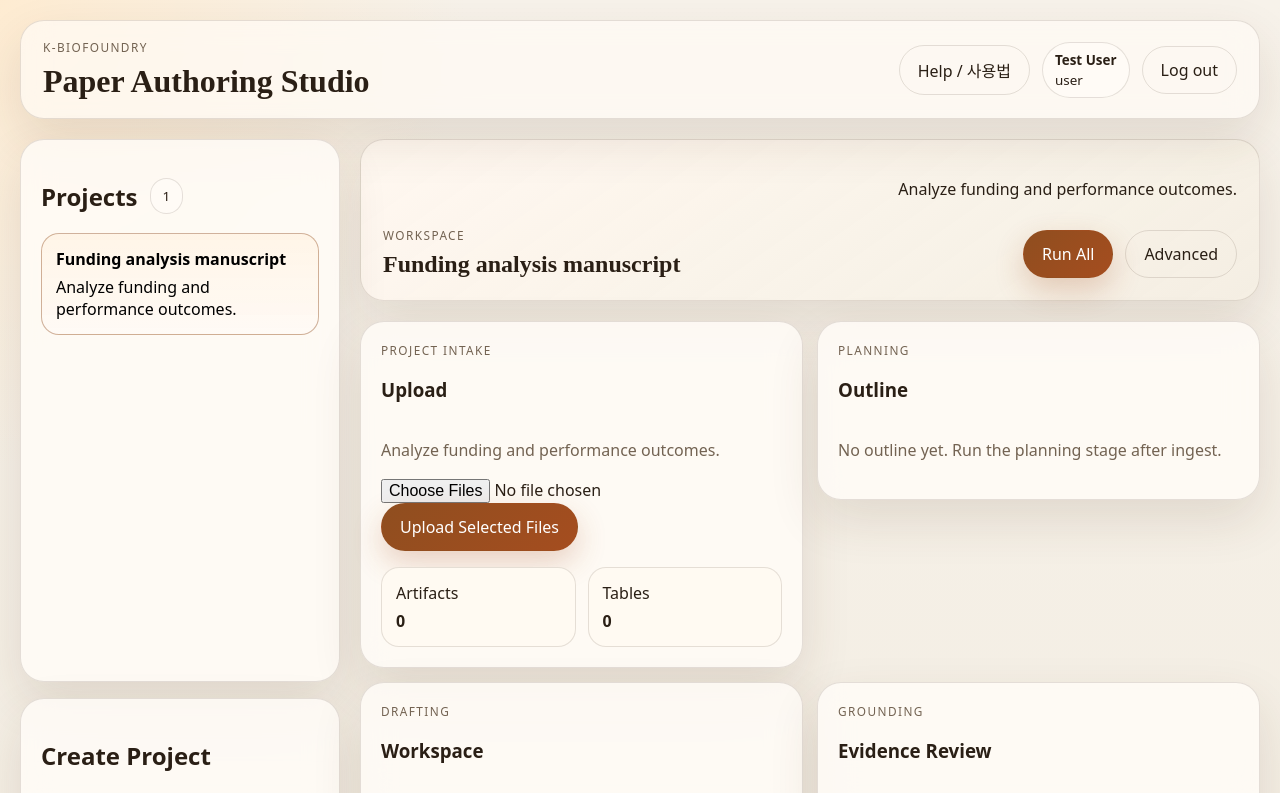
Test case: App › opens the bilingual help guide, switches language, and closes it
The image size is (1280, 793).
What coordinates should you click on to do the following:
click the button "Help / 사용법"
I would click on:
 (964, 70)
Its box is top-left (899, 44), bottom-right (1030, 94).
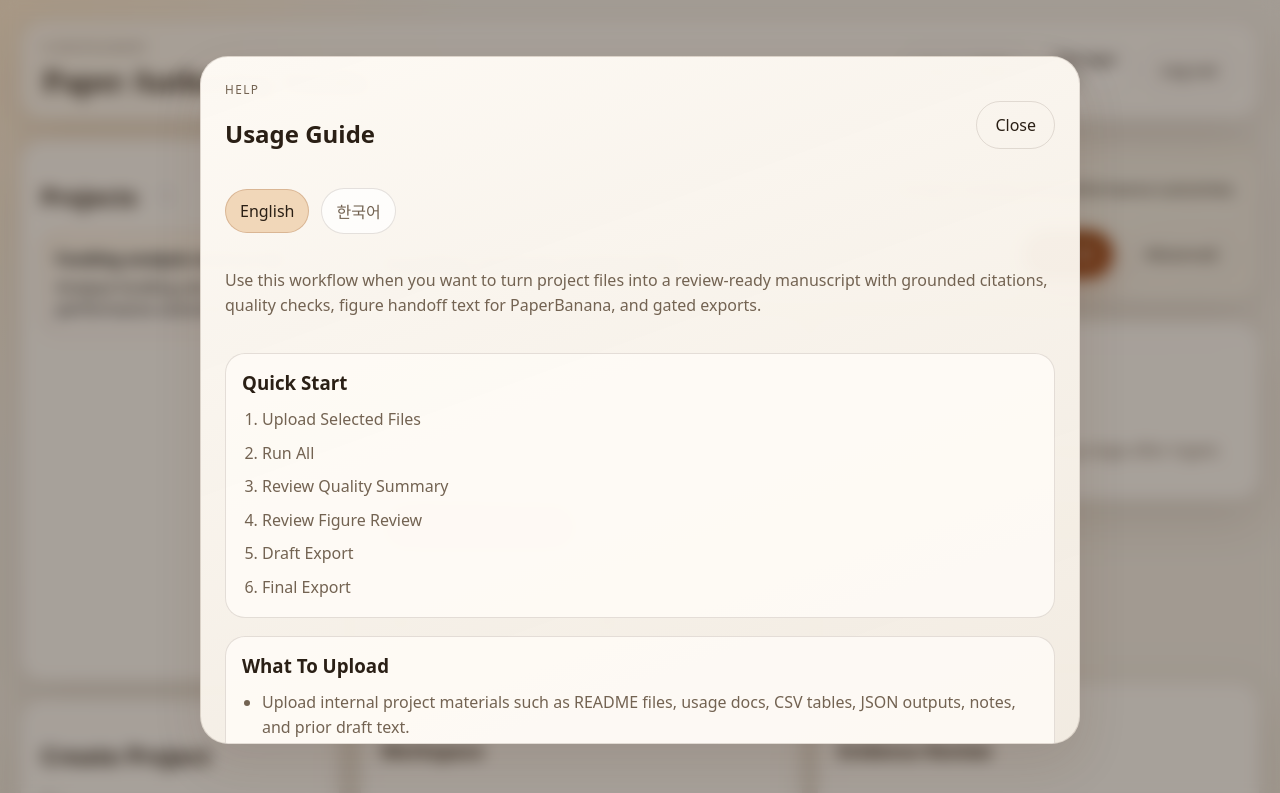
expect the dialog "Usage Guide" is shown: met, box top-left (200, 56), bottom-right (1080, 744)
expect the heading "Quick Start" is shown: met, box top-left (242, 370), bottom-right (347, 395)
expect the list item "Upload Selected Files" is shown: met, box top-left (262, 408), bottom-right (421, 430)
What coordinates should you click on to do the following:
click the tab "한국어"
I would click on:
 (358, 211)
Its box is top-left (321, 188), bottom-right (396, 234).
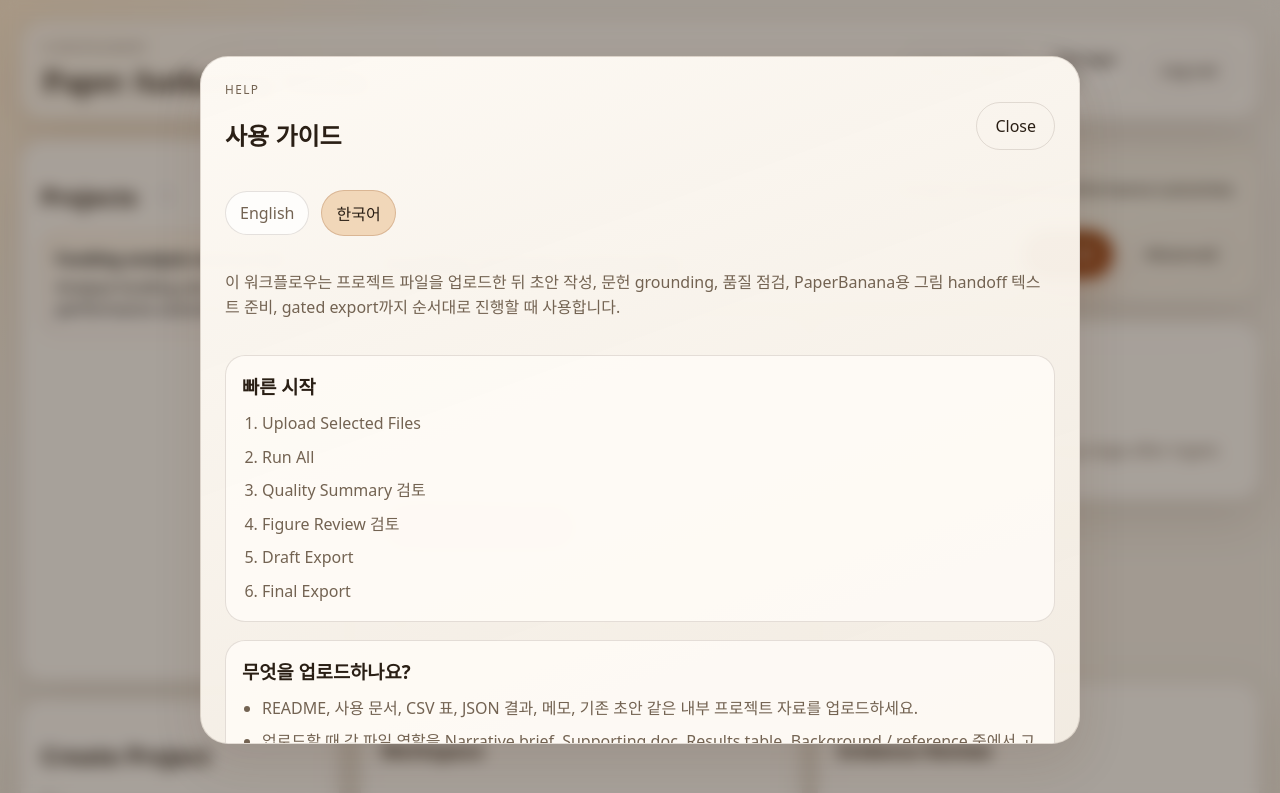
expect the list item "Run All" is shown: met, box top-left (262, 446), bottom-right (314, 468)
expect the dialog "사용 가이드" is shown: met, box top-left (200, 56), bottom-right (1080, 744)
expect the heading "빠른 시작" is shown: met, box top-left (242, 374), bottom-right (316, 399)
What coordinates should you click on to do the following:
click the button with aria-label "Close guide"
I would click on:
 (1016, 126)
Its box is top-left (976, 102), bottom-right (1055, 150).
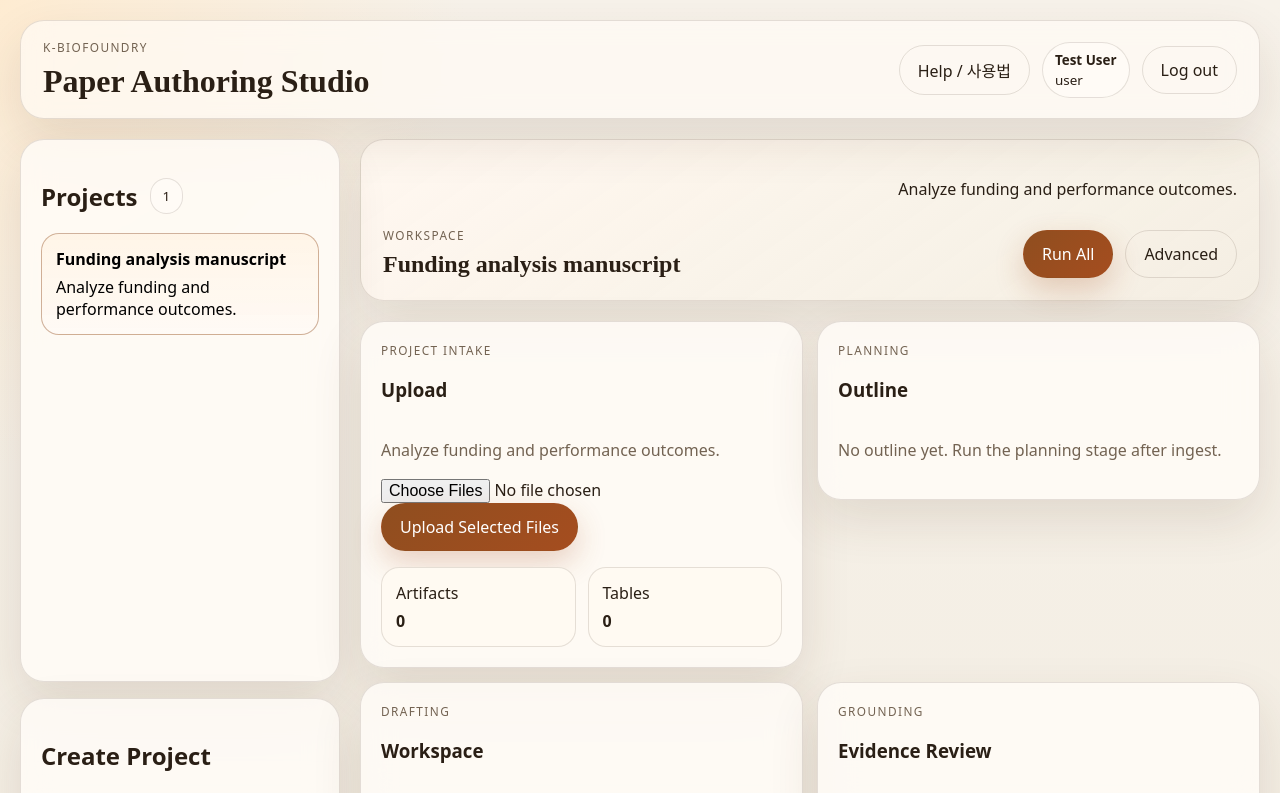
expect the dialog is gone: met
